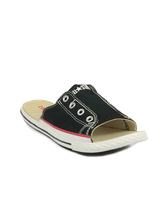shoes: (15, 83, 153, 161)
